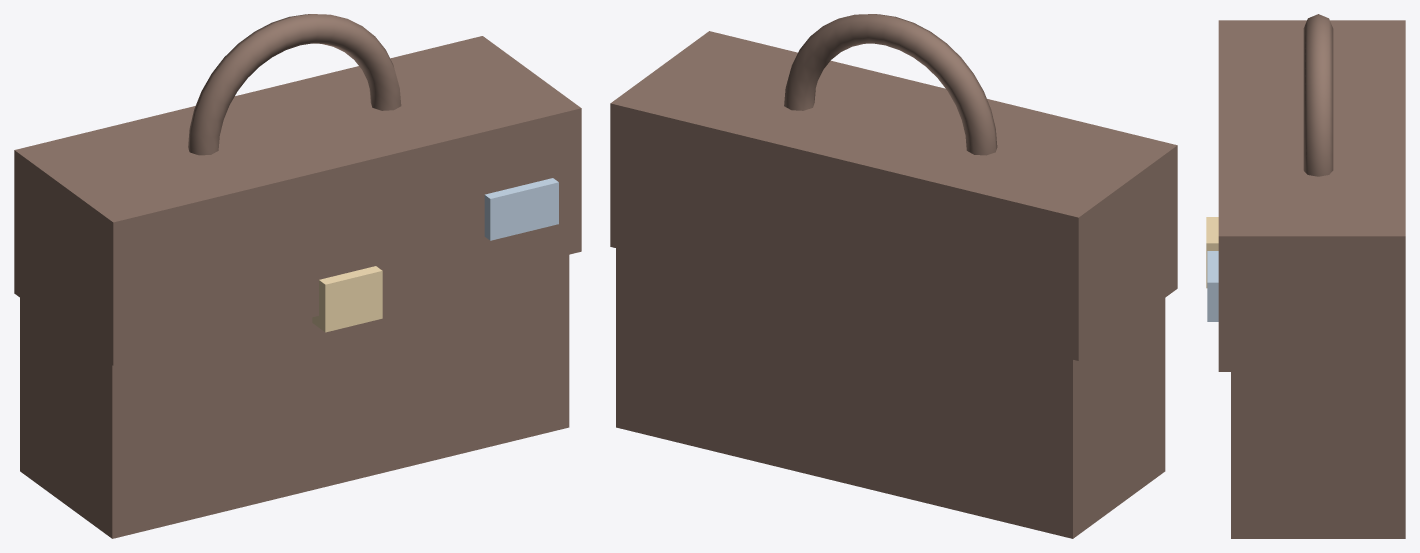
File: ch5_prop_school_bag.glb
3 views of the same model, side by side, from view 1: azimuth 30°, elevation 25°; view 2: azimuth 150°, elevation 25°; view 3: azimuth 270°, elevation 25° (orthographic). The views are drawn at different scales.
Parts seen in each view (by area): view 1: ch5_prop_school_bag; view 2: ch5_prop_school_bag; view 3: ch5_prop_school_bag.
Part boxes in pixels (bbox=[...]): ch5_prop_school_bag: bbox=[14, 14, 581, 538]; ch5_prop_school_bag: bbox=[610, 14, 1177, 538]; ch5_prop_school_bag: bbox=[1206, 14, 1405, 538].
Bounding box in the file's own units: 0.41 × 0.362 × 0.16.
